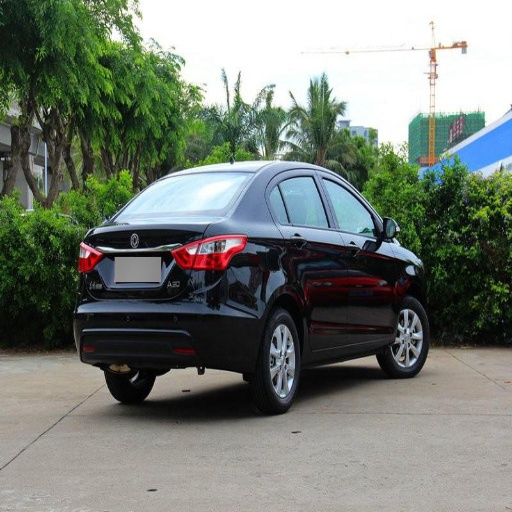back_bumper: (72, 269, 262, 366)
back_right_door: (268, 170, 346, 350)
tailgate: (91, 219, 206, 297)
